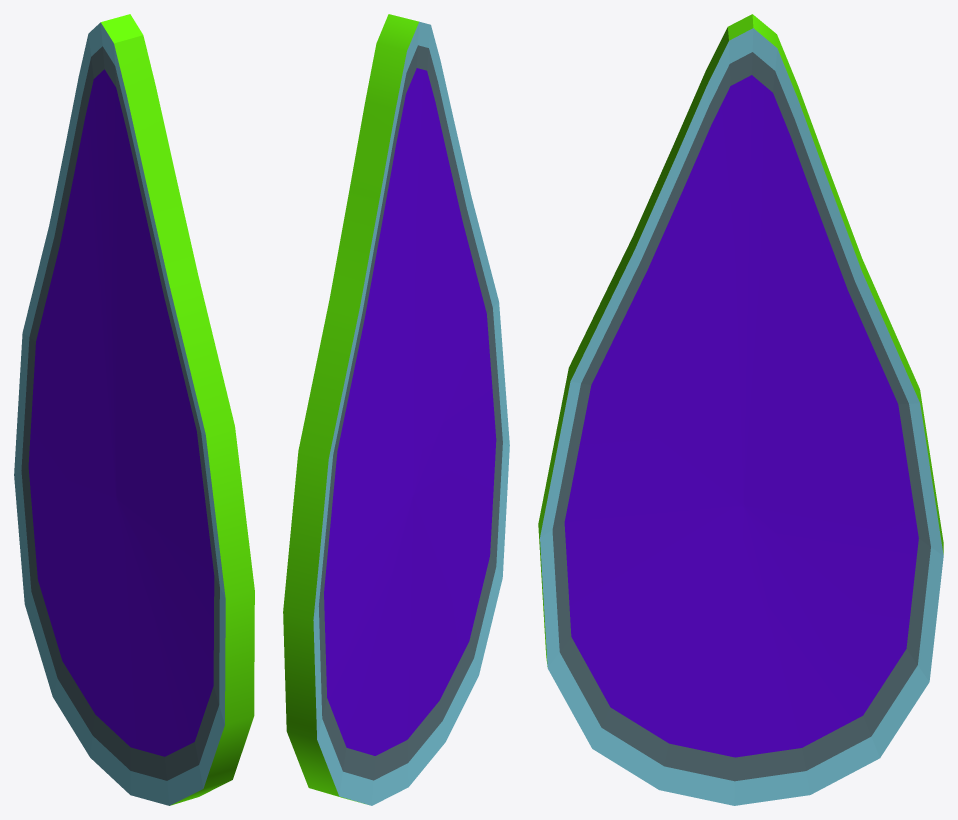
Rendered from Portal.fbx.
The picture shows the model from 3 angles, left to right: view 1: azimuth 30°, elevation 25°; view 2: azimuth 150°, elevation 25°; view 3: azimuth 270°, elevation 25°; orthographic projection.
Parts seen in each view (by area): view 1: pCylinder8; view 2: pCylinder8; view 3: pCylinder8.
Boxes of the visible parts, x1,y1,x2,y2 form: pCylinder8: [14, 14, 254, 805]; pCylinder8: [283, 14, 509, 805]; pCylinder8: [538, 14, 943, 805].
Size of the model in its own units: 0.5154 by 7.33 by 3.5.
